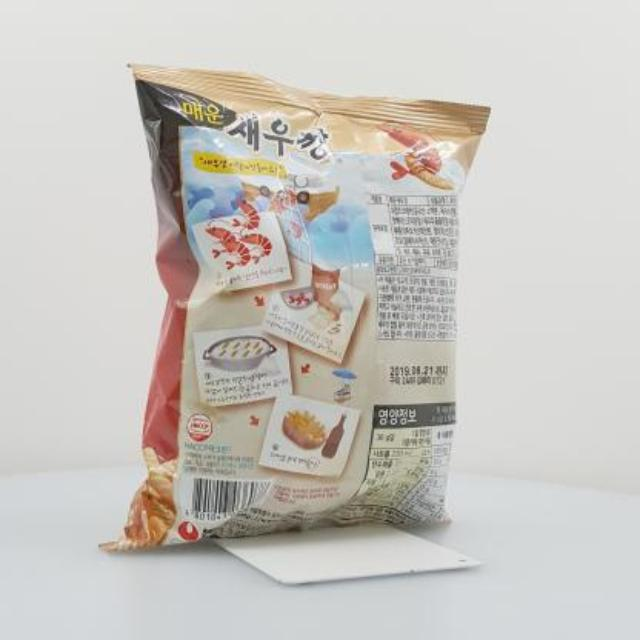snack_bag: (83, 39, 507, 572)
